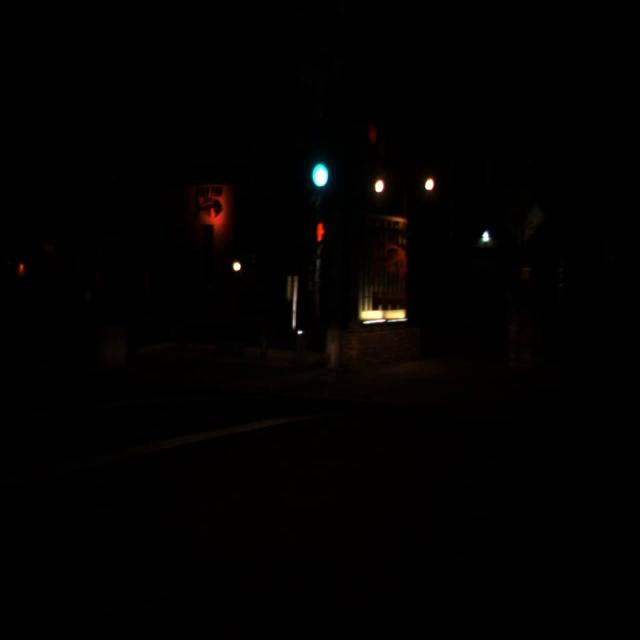go: (312, 159, 334, 191)
go traffic light: (302, 112, 340, 206)
